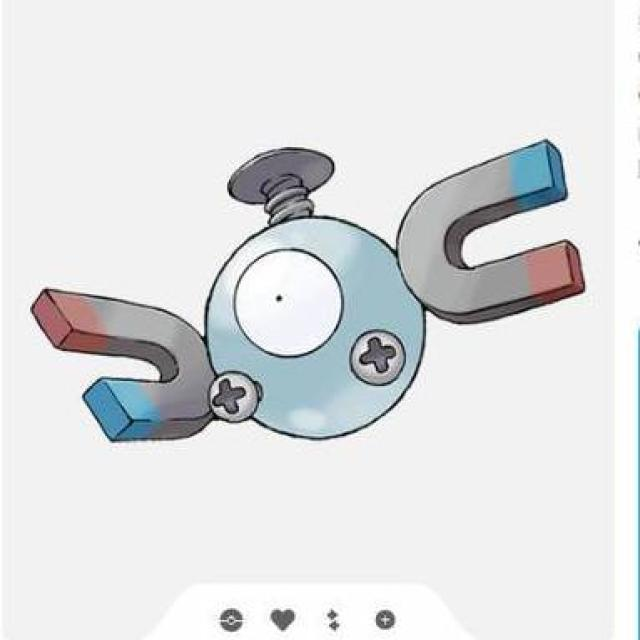Magnemite: (75, 138, 569, 448)
